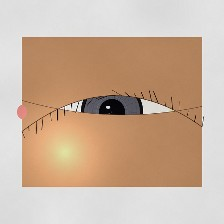pinguecula_lesion: (159, 94, 199, 126)
